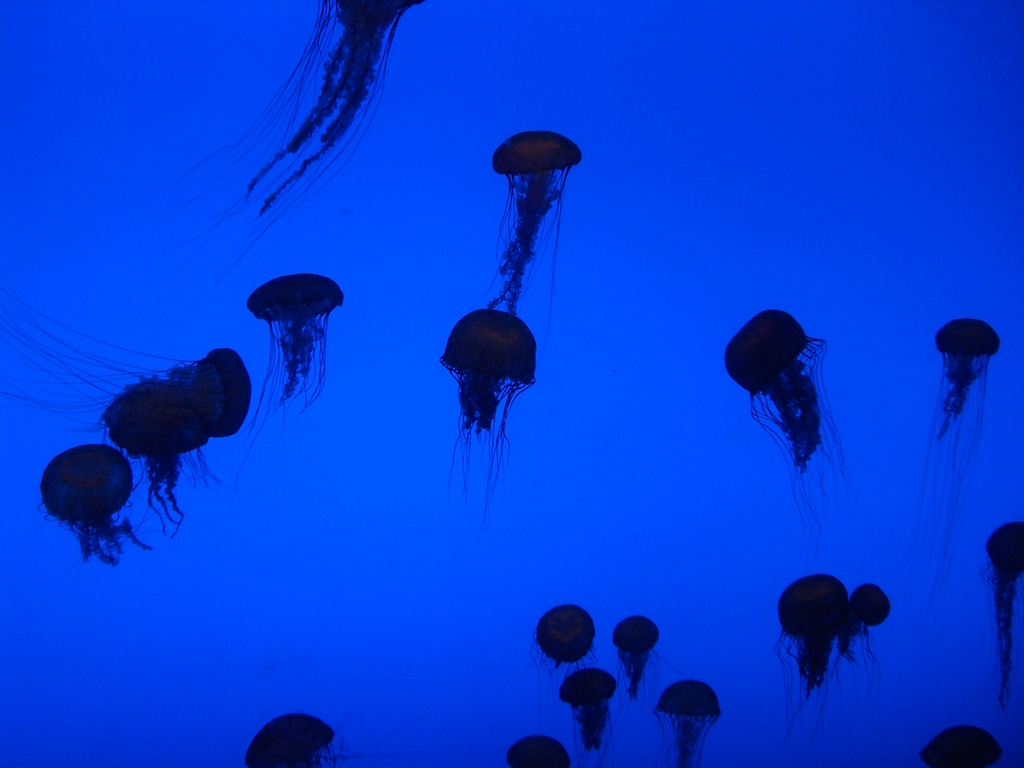Jellyfish: (165, 0, 420, 266), (0, 285, 252, 439), (720, 305, 858, 545), (903, 318, 1000, 605), (234, 277, 350, 486), (437, 305, 540, 526), (96, 373, 223, 542), (491, 133, 584, 346), (42, 442, 159, 565), (811, 584, 890, 748), (773, 565, 851, 728), (529, 600, 595, 727), (984, 517, 1023, 718), (244, 711, 355, 767), (652, 677, 720, 767), (561, 668, 618, 767), (609, 616, 663, 720), (919, 723, 1006, 767), (503, 732, 569, 767)
